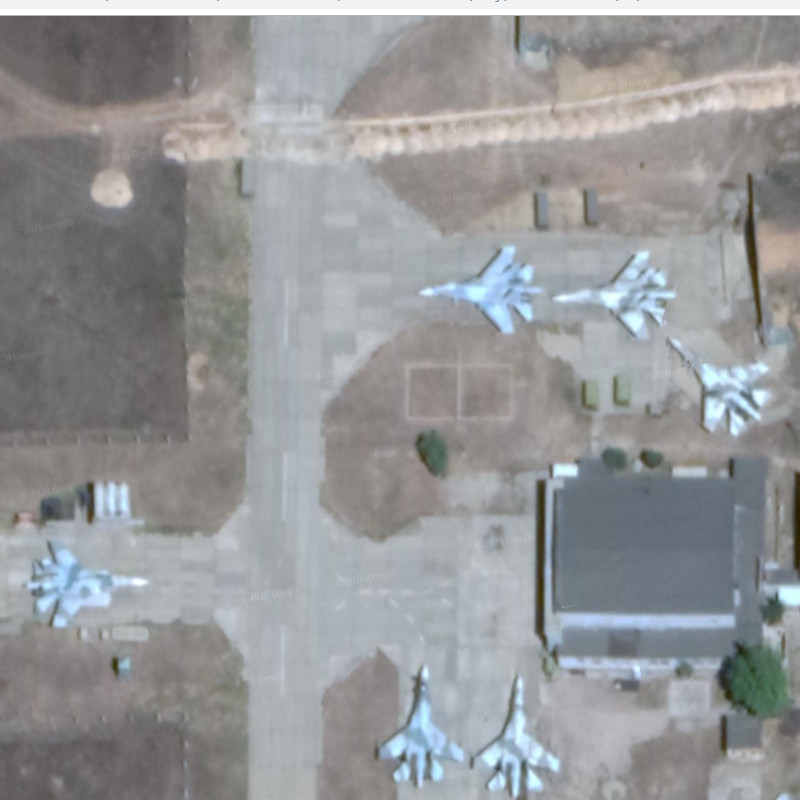A1: (414, 227, 547, 349), (659, 332, 781, 459), (18, 532, 160, 636), (369, 650, 467, 790), (552, 244, 677, 340), (476, 665, 561, 796)
